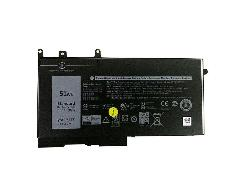electronic: (26, 40, 222, 178)
